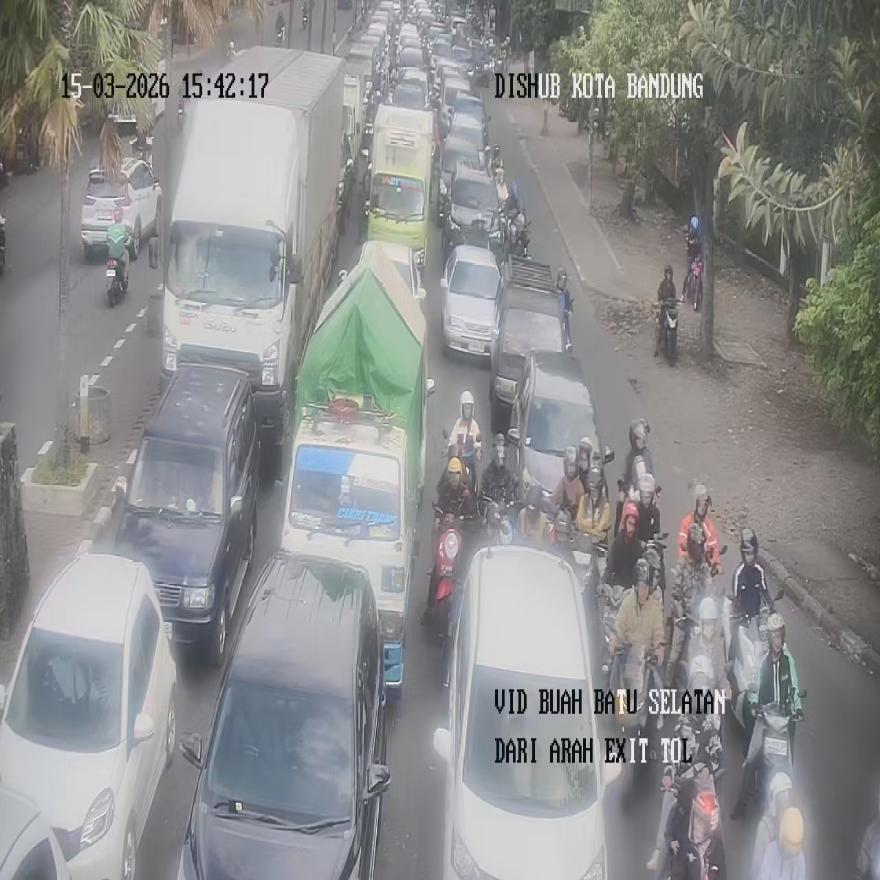Mobil: (176, 550, 390, 879), (432, 545, 624, 879), (0, 551, 177, 878), (112, 363, 258, 665), (489, 256, 570, 433), (440, 243, 501, 361)
Motor: (745, 688, 806, 815), (614, 644, 664, 774), (728, 605, 775, 736), (426, 504, 465, 650), (656, 296, 678, 363), (105, 248, 128, 307), (506, 209, 529, 257), (684, 255, 702, 313), (274, 11, 286, 45), (300, 1, 308, 31)
Truk menengah: (161, 46, 342, 477)
Truk ringan: (281, 254, 434, 691), (366, 108, 432, 266)
